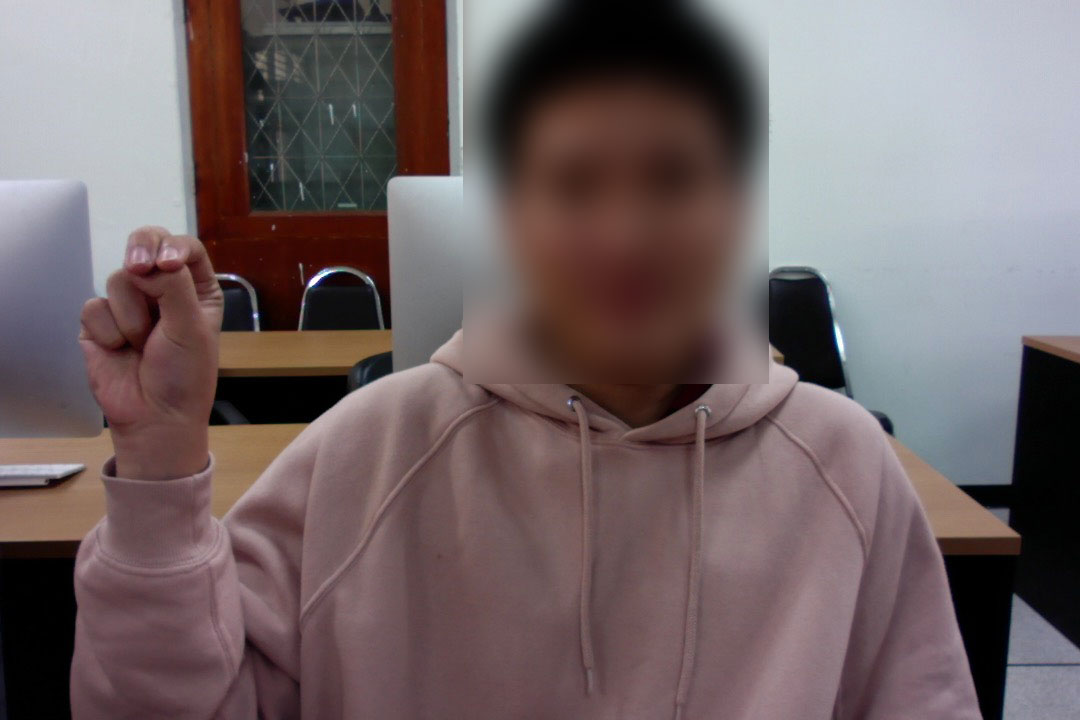nor: (63, 212, 233, 463)
